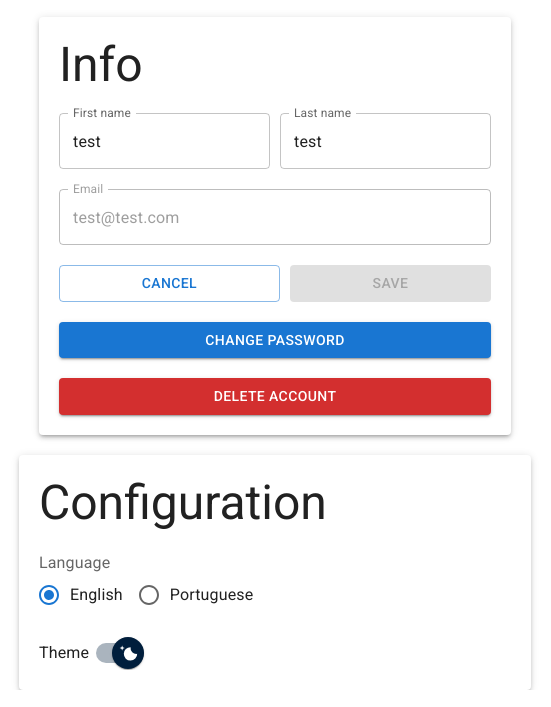
Test: SettingsPage › should reset the form when the cancel button is clicked
Step 1. Replace the text in the field labelled "First name" with "John" → (164, 141), box [59,113,270,169]
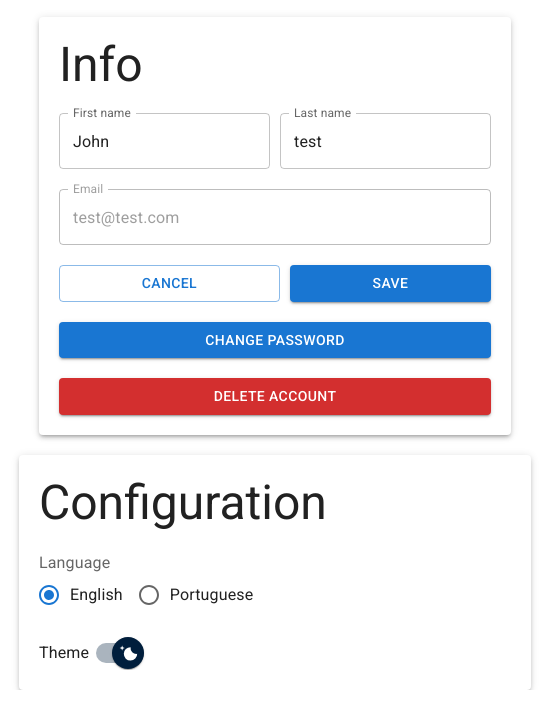
Step 2. Replace the text in the field labelled "Last name" with "Doe" → (386, 141), box [280,113,491,169]
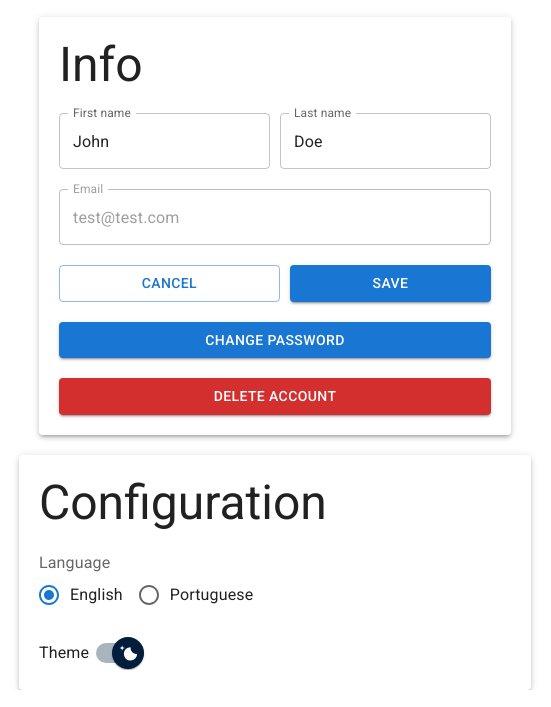
Step 3. Click the button "Cancel" → (169, 283), box [59,265,280,302]
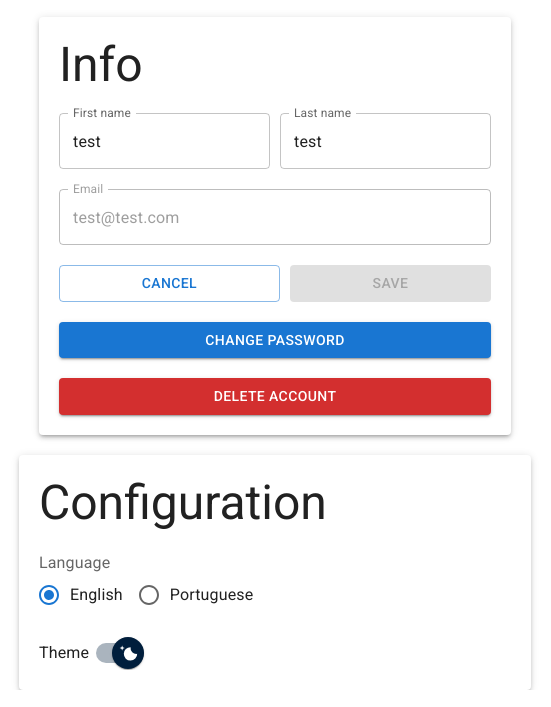
Expected: the field labelled "Email" holds "test@test.com", [59,189,491,245]
Now the field labelled "First name" holds "test", box [59,113,270,169]
Now the field labelled "Last name" holds "test", box [280,113,491,169]
